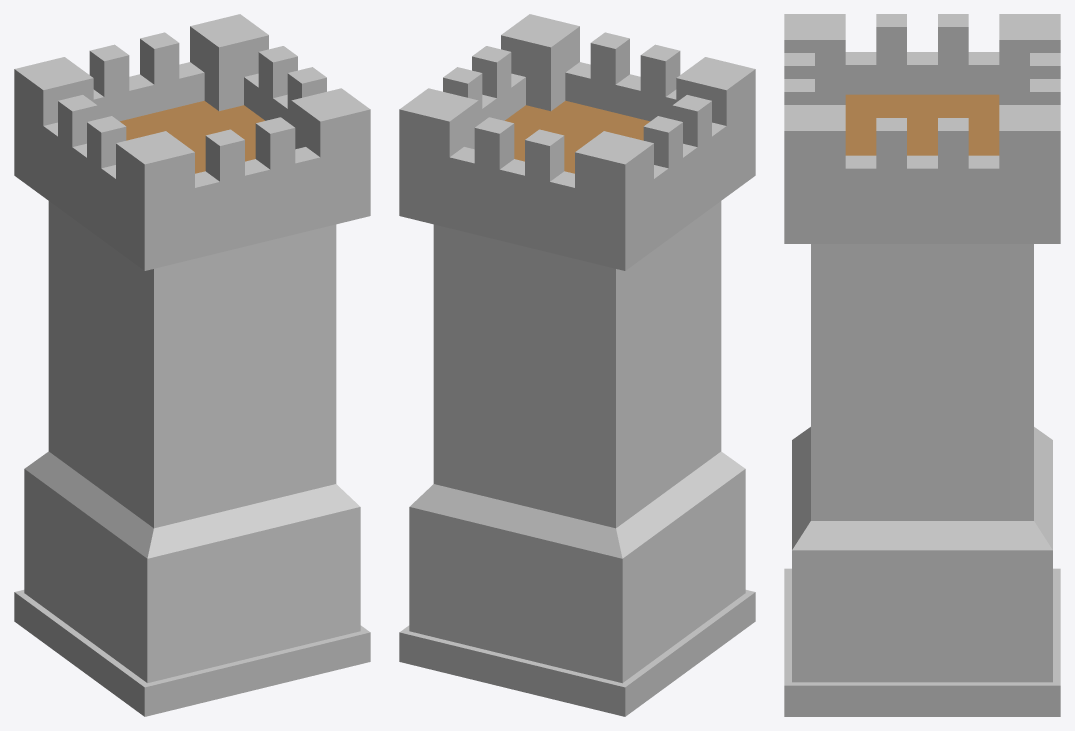
File: Tower.glb
3 renders of one model, left to right at view 1: azimuth 30°, elevation 25°; view 2: azimuth 150°, elevation 25°; view 3: azimuth 270°, elevation 25°, orthographic. The views are drawn at different scales.
Parts seen in each view (by area): view 1: Cube; view 2: Cube; view 3: Cube.
Part boxes in pixels (box(x1,y1,x2,y2)): Cube: box(14, 14, 370, 716); Cube: box(399, 14, 755, 716); Cube: box(784, 14, 1060, 716).
Size of the model in its own units: 4 by 9.36 by 4.
